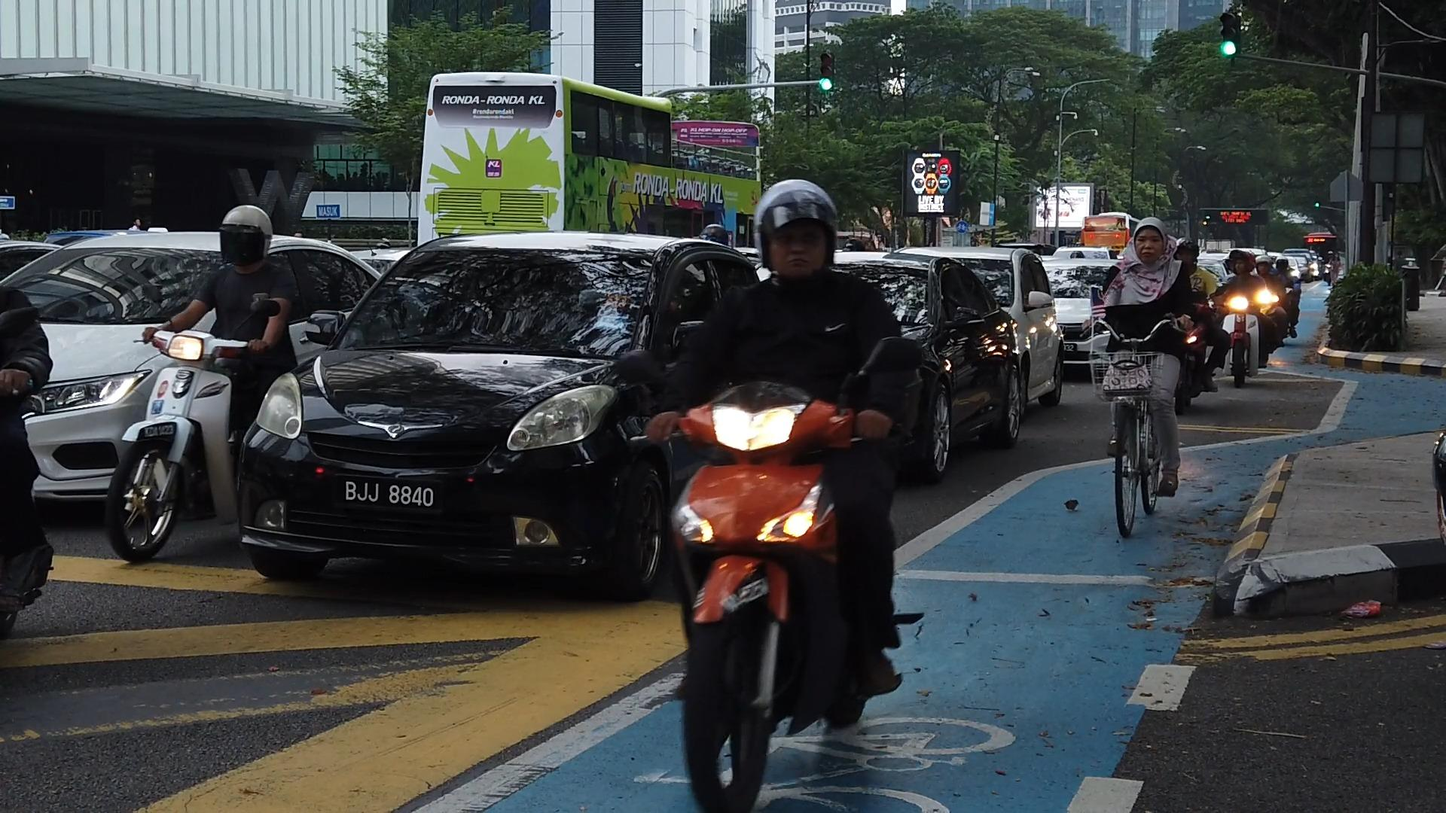bicyclist: (1079, 217, 1202, 541)
driver: (613, 179, 925, 813), (105, 206, 302, 563)
helmet: (754, 178, 837, 282), (220, 205, 273, 266)
no-helmet: (1133, 217, 1166, 265)
